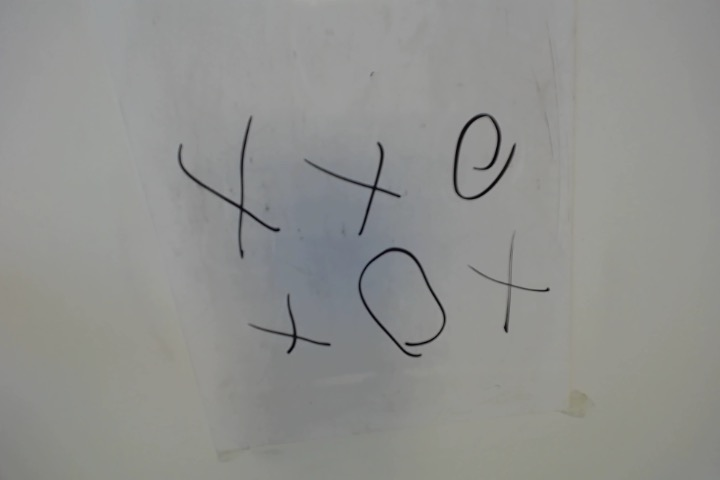0: (357, 244, 452, 364), (450, 110, 523, 204)
x: (174, 117, 287, 259), (302, 145, 402, 236), (465, 235, 551, 334), (256, 288, 334, 367)
